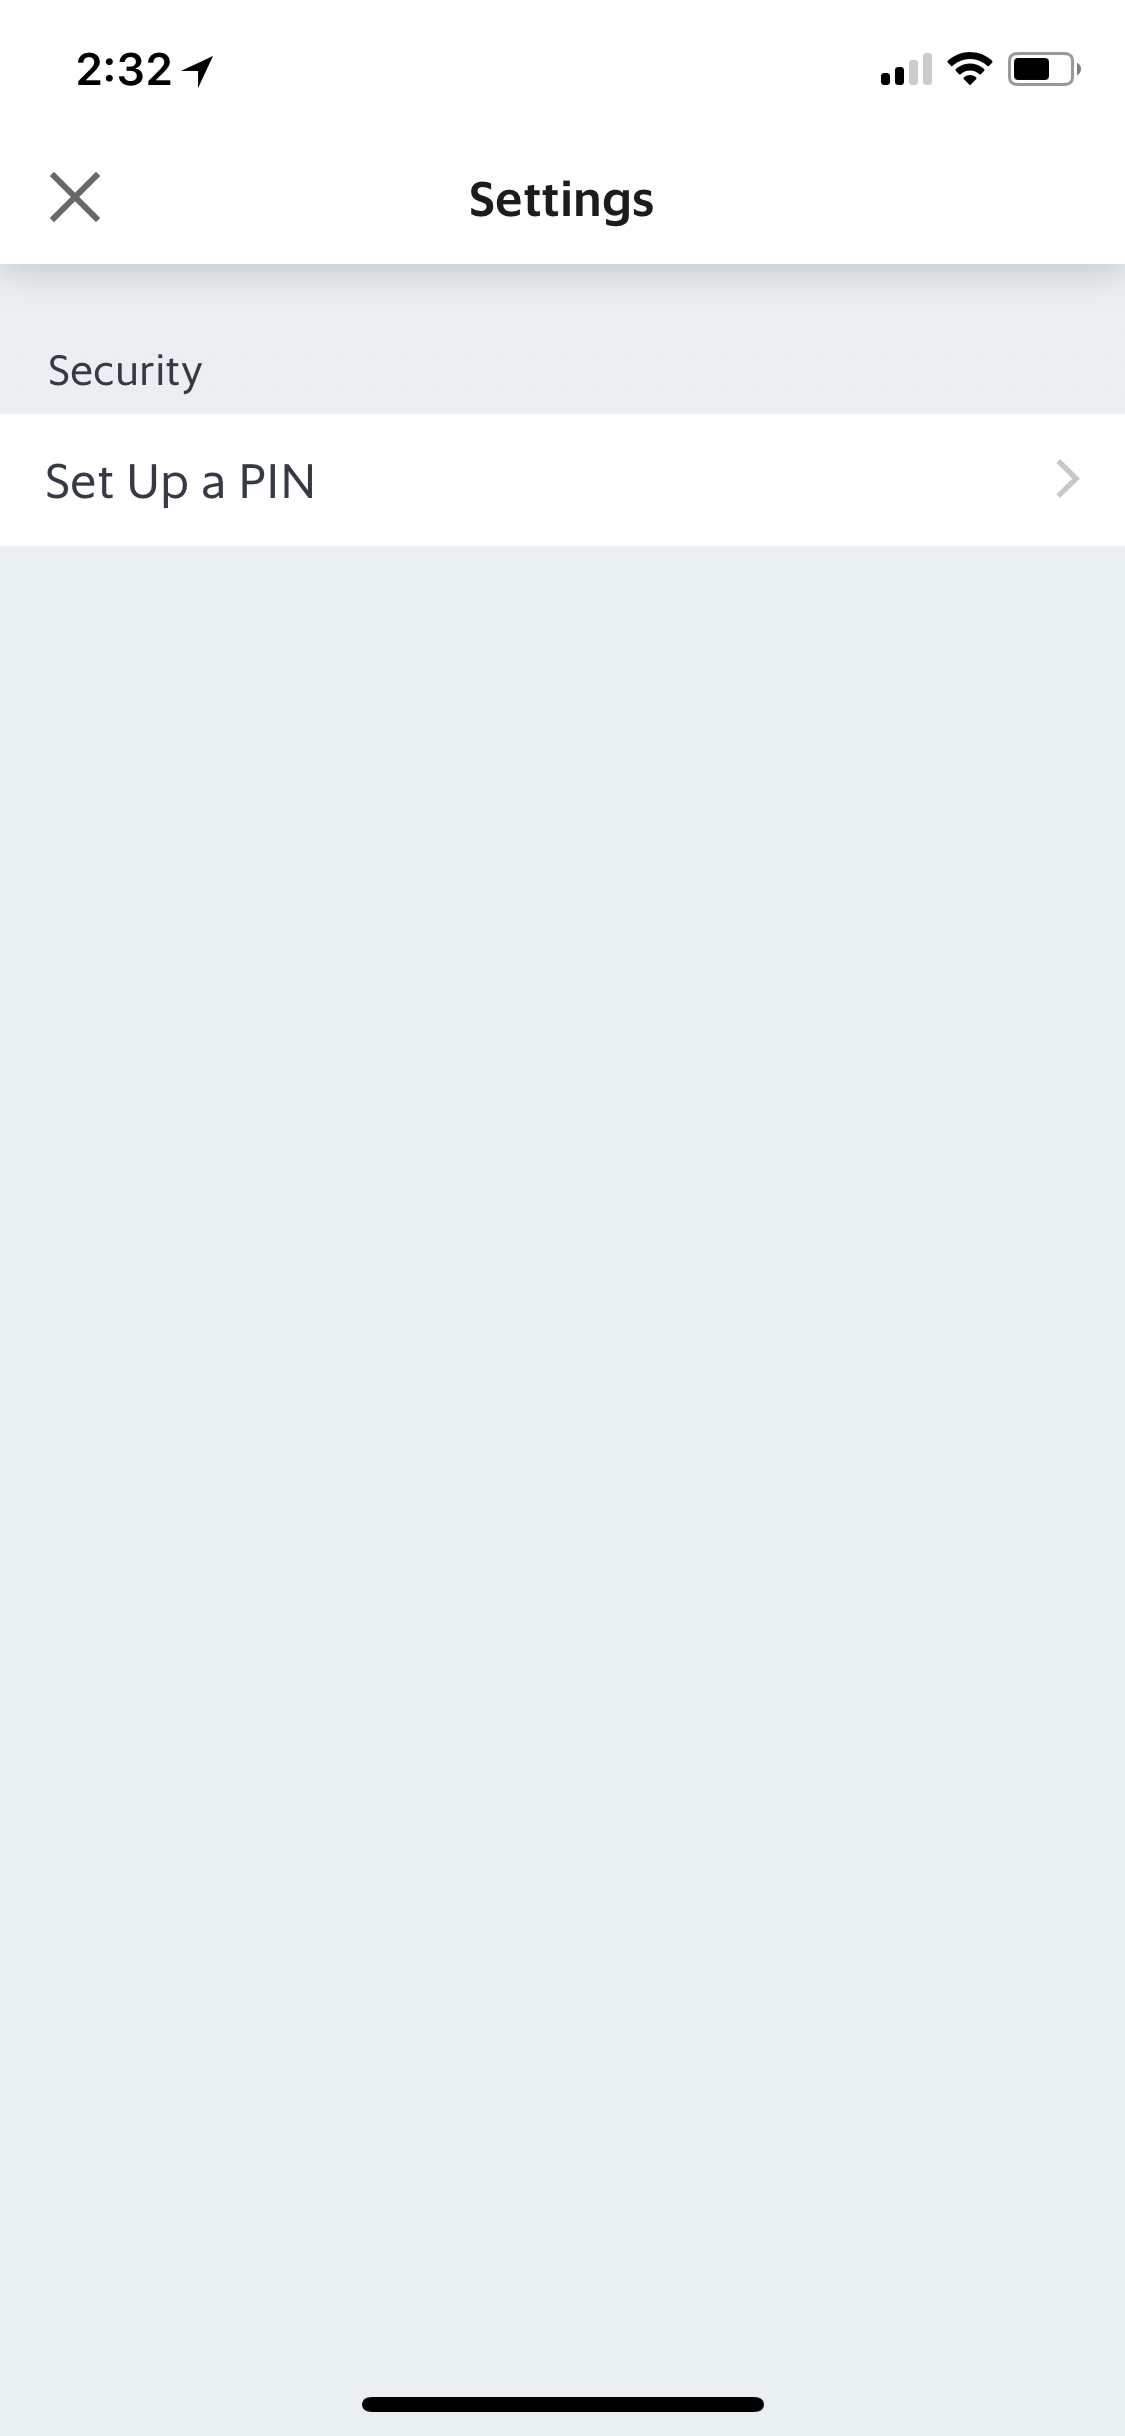Buttons: (14, 137, 145, 270)
